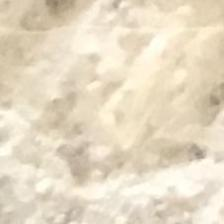Non_Crack: (34, 18, 212, 210)
